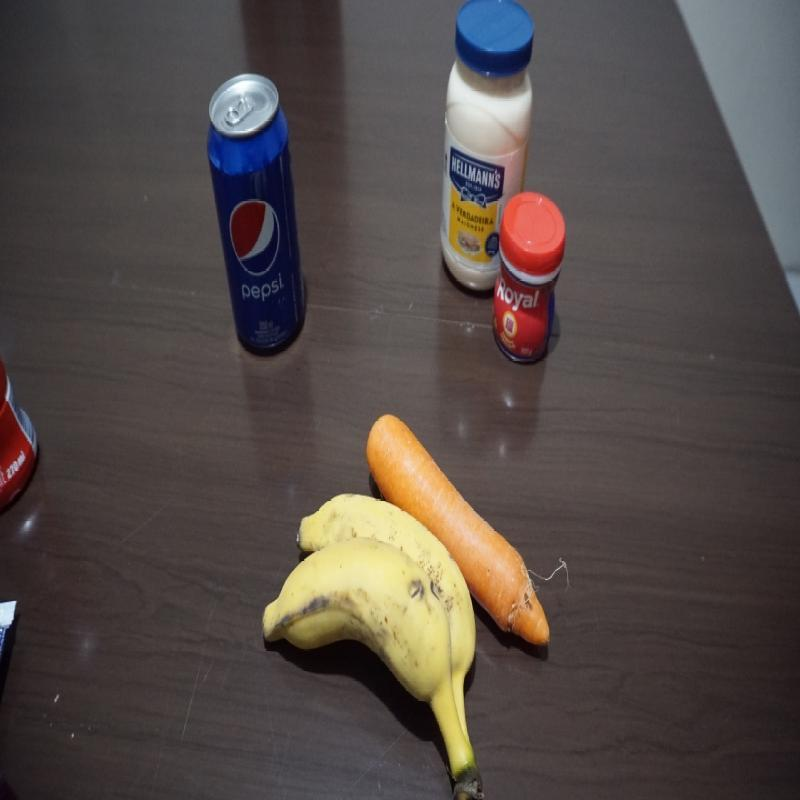Banana: (262, 492, 486, 798)
Carrot: (366, 404, 553, 644)
Mayonnaise: (434, 7, 526, 296)
Soda can: (206, 69, 307, 358)
Yeast: (496, 196, 563, 364)
